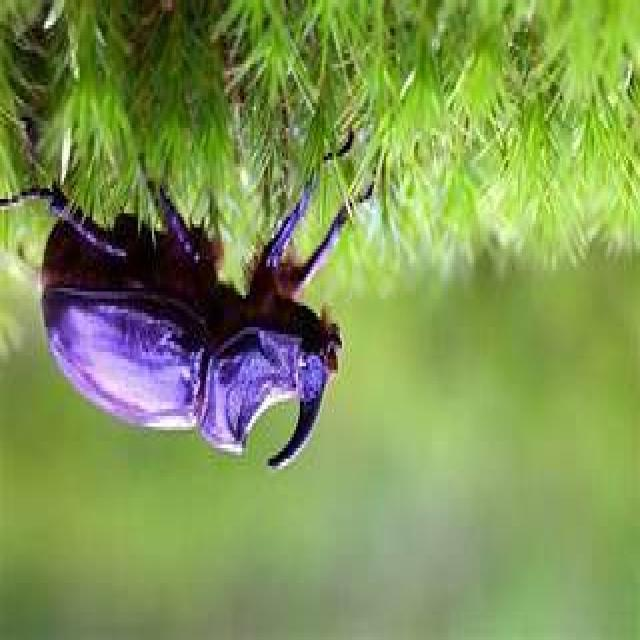Rhino-beetle: (0, 168, 375, 488)
